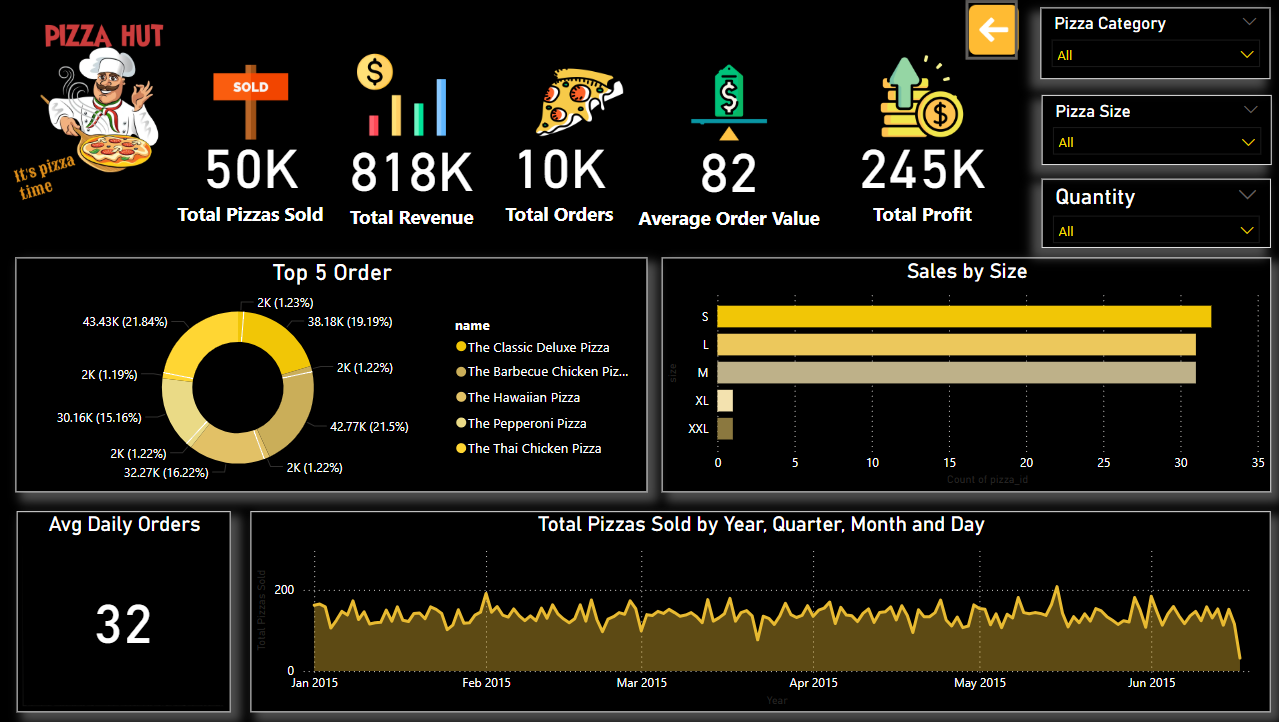

This screenshot's page, from the dashboard's own definition file:
{"tool":"powerbi","page":{"name":"DashBoard","canvas":[1280,720],"ordinal":1},"visuals":[{"type":"card","fields":{"Values":["MasureTable.Total Revenue"]},"box":[332.1,113.2,159.2,119.4],"z":0},{"type":"card","fields":{"Values":["MasureTable.Total Pizzas Sold"]},"box":[161.7,107,179.1,134.3],"z":1000},{"type":"card","fields":{"Values":["MasureTable.Total Orders"]},"box":[477.7,113.2,161.7,125.6],"z":2000},{"type":"card","fields":{"Values":["MasureTable.Average Order Value"]},"box":[620.7,119.4,214,116.9],"z":3000},{"type":"donutChart","title":"Top 5 Order","fields":{"Y":["MasureTable.Total Pizzas Sold","MasureTable.Total Revenue"],"Category":["pizza_types.name","pizza_types.pizza_type_id"]},"box":[17.8,256.6,628.5,233.3],"z":4000},{"type":"slicer","fields":{"Values":["pizza_types.category"]},"box":[1037.5,7.5,228.9,70.9],"z":5000},{"type":"clusteredBarChart","title":"Sales by Size","fields":{"Category":["pizzas.size"],"Y":["CountNonNull(pizzas.pizza_id)"]},"box":[660,256.6,606.5,233.3],"z":6000},{"type":"image","box":[0,0,212.7,209.9],"z":7000},{"type":"slicer","fields":{"Values":["order_details.quantity"]},"box":[1038.7,177.9,227.6,68.4],"z":8000},{"type":"slicer","fields":{"Values":["pizzas.size"]},"box":[1038.7,94.5,228.9,69.7],"z":9000},{"type":"kpi","title":"Avg Daily Orders","fields":{"TrendLine":["orders.date"],"Indicator":["MasureTable.Avg Orders Per Day"]},"box":[19.2,509.1,212.7,200.3],"z":10000},{"type":"areaChart","fields":{"Y":["MasureTable.Total Pizzas Sold"],"Category":["orders.date.Variation.Date Hierarchy.Year","orders.date.Variation.Date Hierarchy.Quarter","orders.date.Variation.Date Hierarchy.Month","orders.date.Variation.Date Hierarchy.Day"]},"box":[251.3,508.8,1015.1,200.3],"z":11000},{"type":"image","box":[518.7,46,120.7,104.5],"z":12000},{"type":"image","box":[181.6,59.7,139.3,84.6],"z":13000},{"type":"image","box":[320.9,29.9,180.4,104.5],"z":14000},{"type":"image","box":[655.6,57.2,144.3,89.6],"z":15000},{"type":"card","fields":{"Values":["MasureTable.Total Profit"]},"box":[817.3,123.2,153,107],"z":16000},{"type":"image","box":[817.3,49.8,170.4,89.6],"z":17000},{"type":"image","box":[979,0,58.5,63.4],"z":18000}]}

Visuals, with their boxes in screenshot pixels (x1, y1, x2, y2), scaled from the page's 1280x720 canvas onto the 1279x722 screenshot:
card - MasureTable.Total Revenue: 332, 114, 491, 233
card - MasureTable.Total Pizzas Sold: 162, 107, 341, 242
card - MasureTable.Total Orders: 477, 114, 639, 239
card - MasureTable.Average Order Value: 620, 120, 834, 237
"Top 5 Order" donutChart: 18, 257, 646, 491
slicer - pizza_types.category: 1037, 8, 1265, 79
"Sales by Size" clusteredBarChart: 659, 257, 1266, 491
image: 0, 0, 213, 210
slicer - order_details.quantity: 1038, 178, 1265, 247
slicer - pizzas.size: 1038, 95, 1267, 165
"Avg Daily Orders" kpi: 19, 511, 232, 711
areaChart - MasureTable.Total Pizzas Sold x orders.date.Variation.Date Hierarchy.Year: 251, 510, 1265, 711
image: 518, 46, 639, 151
image: 181, 60, 321, 145
image: 321, 30, 501, 135
image: 655, 57, 799, 147
card - MasureTable.Total Profit: 817, 124, 970, 231
image: 817, 50, 987, 140
image: 978, 0, 1037, 64
